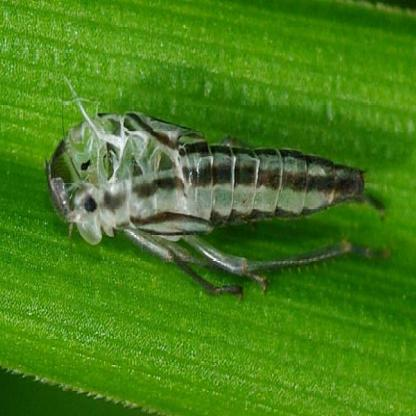Green-Leafhopper: (42, 72, 379, 300)
